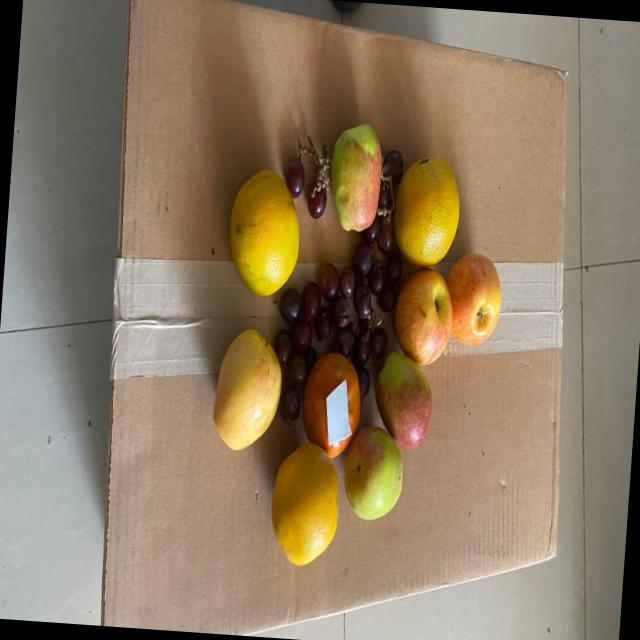hoja: (322, 376, 355, 454)
